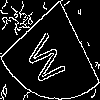W: (25, 25, 72, 91)
